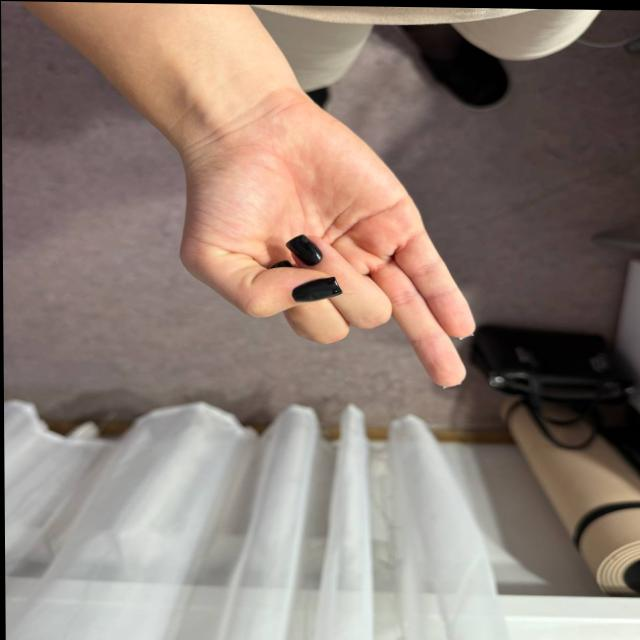i: (147, 165, 527, 445)
